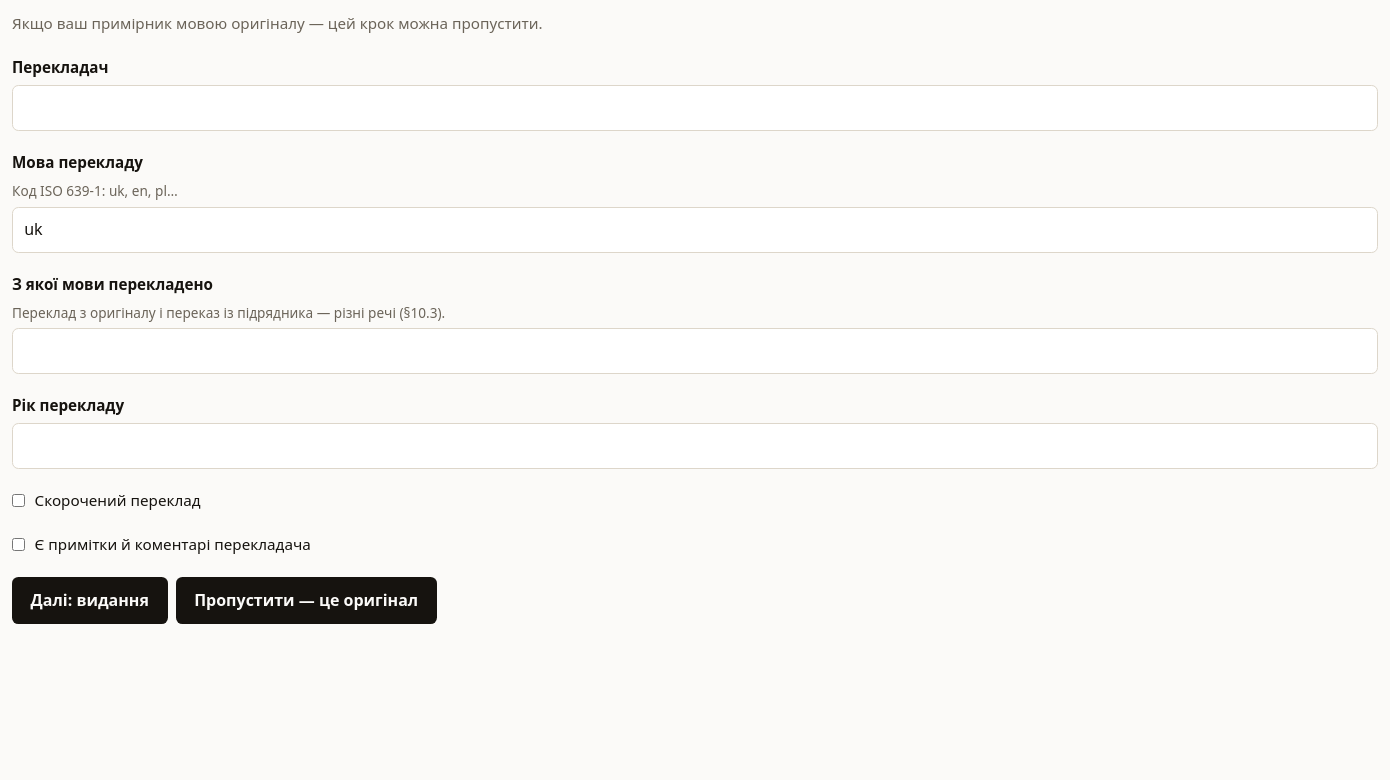
Test case: keeps form values and exposes a create-Translation API error
The image size is (1390, 780).
Type "Новий Перекладач" into the field labelled "Перекладач" at (695, 108), box top-left (12, 85), bottom-right (1378, 131)
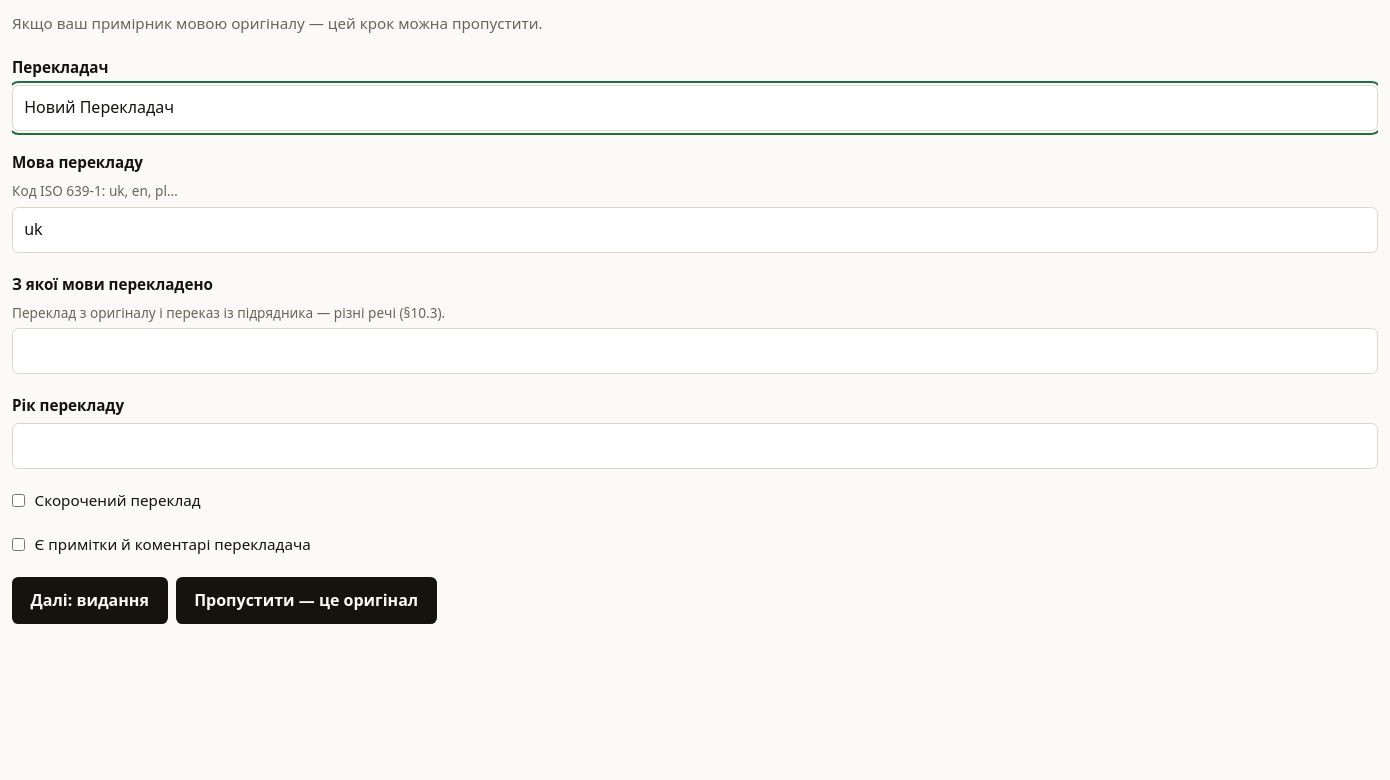
Type "en" into the field labelled "З якої мови перекладено" at (695, 351), box top-left (12, 328), bottom-right (1378, 374)
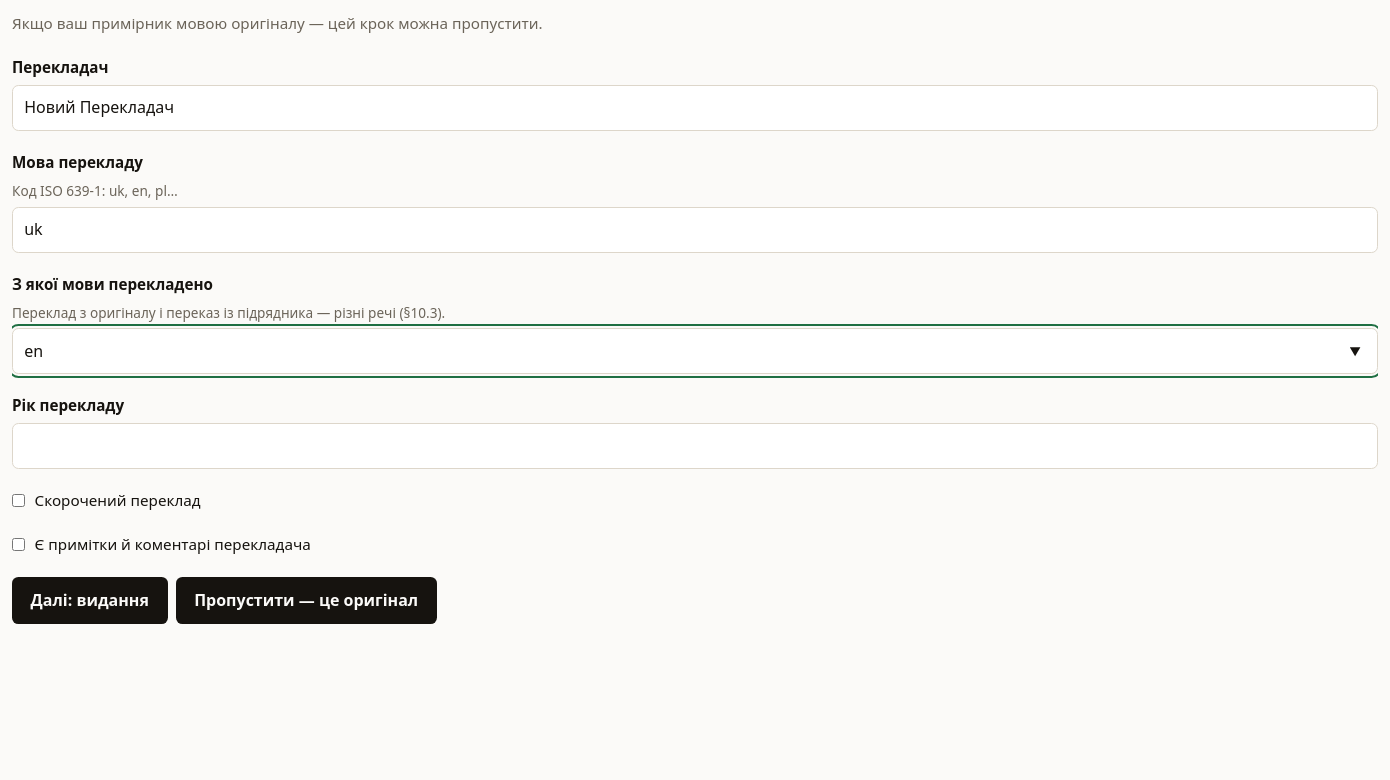
Type "1985" into the number field labelled "Рік перекладу" at (695, 446), box top-left (12, 424), bottom-right (1378, 470)
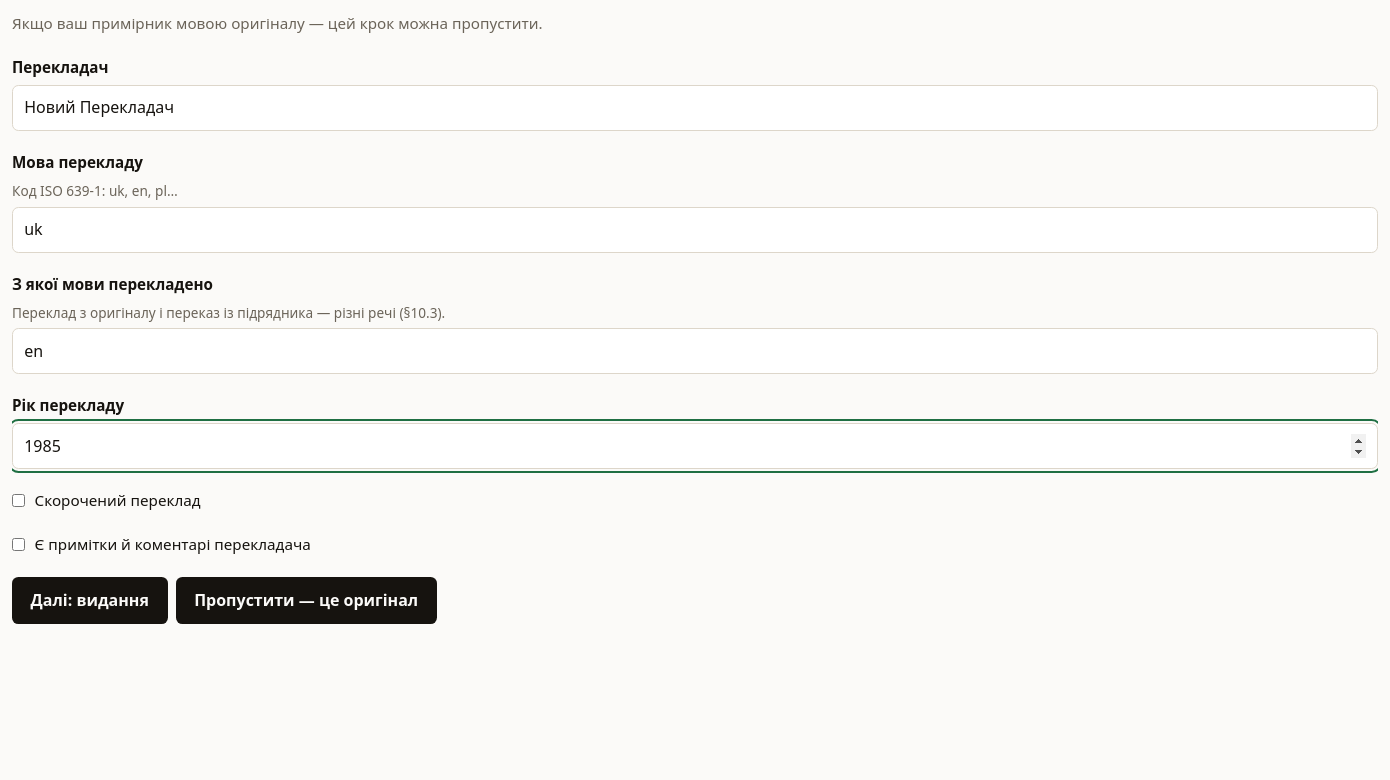
Click the button "Далі: видання" at (90, 600), box top-left (12, 577), bottom-right (168, 624)
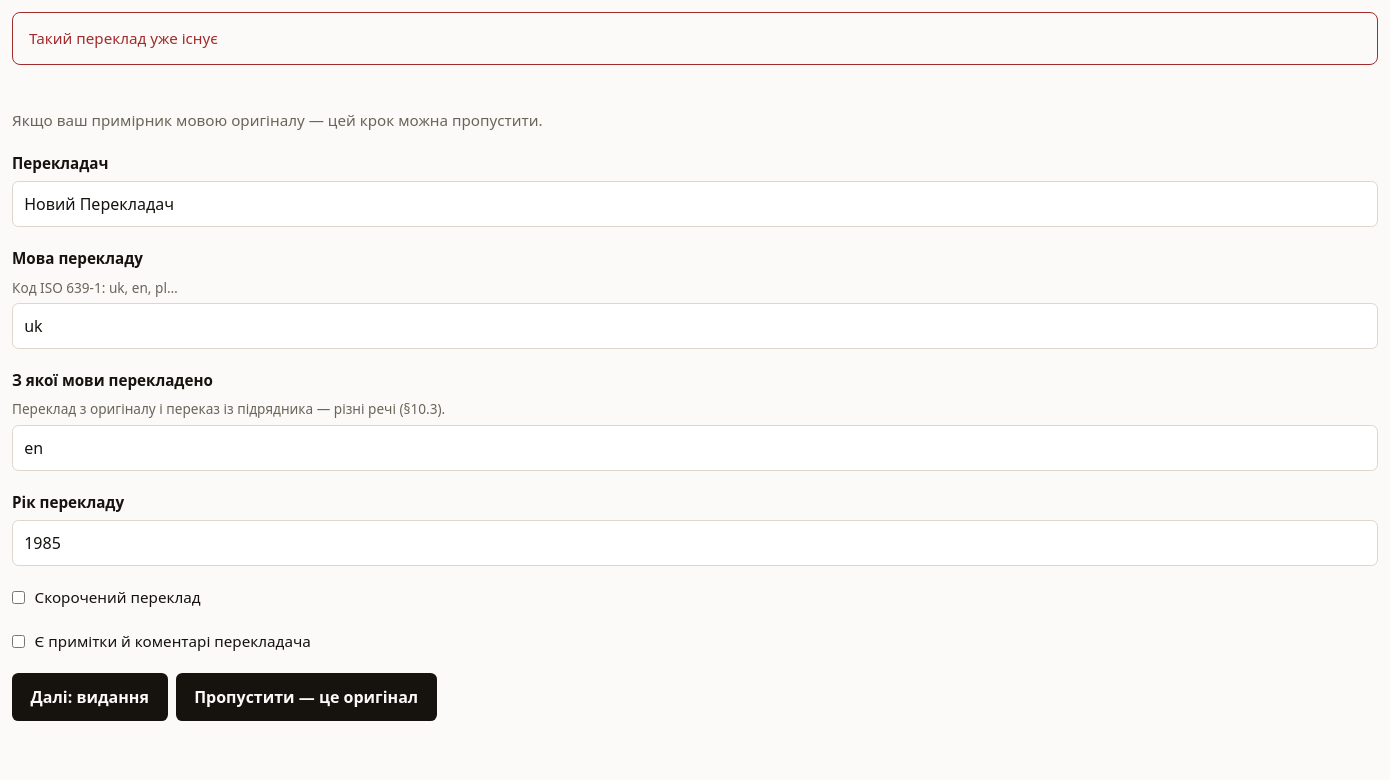
Result: the text "Такий переклад уже існує" is shown at top-left (29, 28), bottom-right (218, 48)
